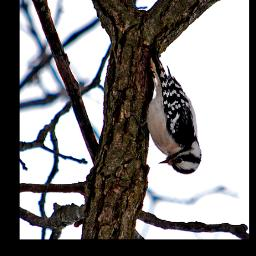Woodpecker: (132, 47, 202, 174)
